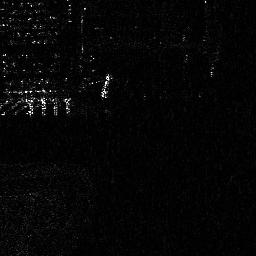ship: (100, 73, 114, 98)
